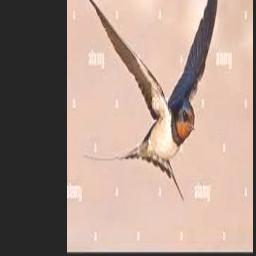Swallow: (84, 0, 218, 201)
